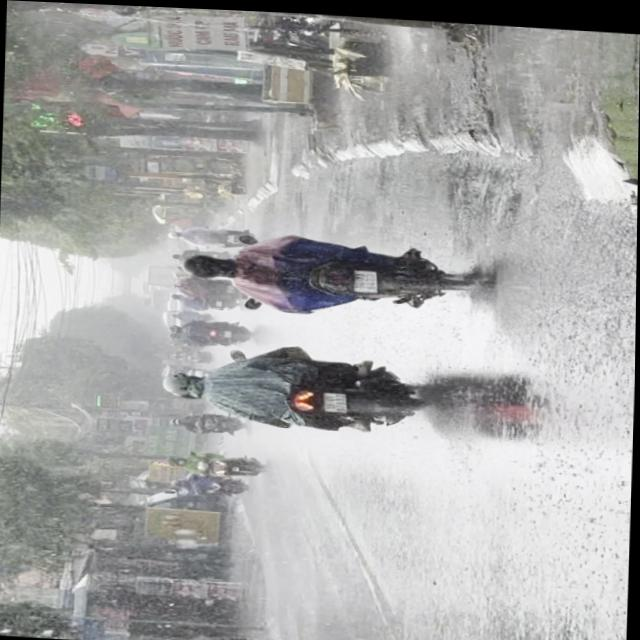helmet: (179, 250, 234, 280), (159, 371, 201, 398)
licenseplate: (173, 225, 486, 320), (157, 340, 437, 438), (158, 623, 340, 640)
nohelmet: (352, 267, 375, 289), (323, 390, 346, 409)
